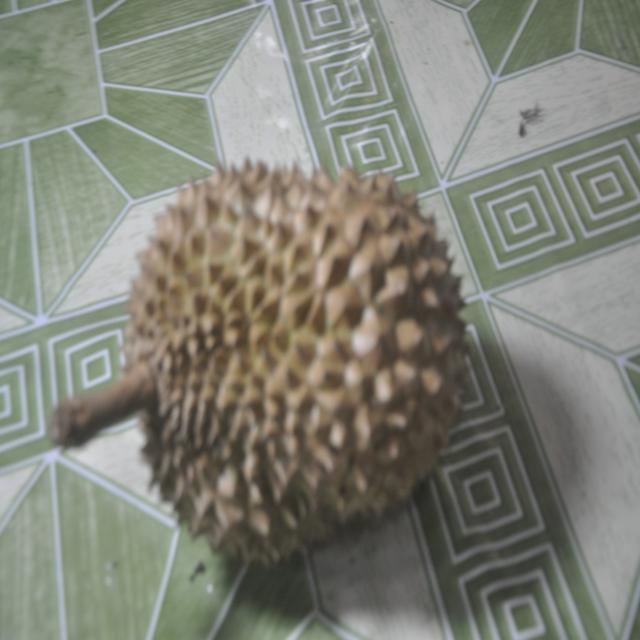mature: (51, 160, 466, 562)
